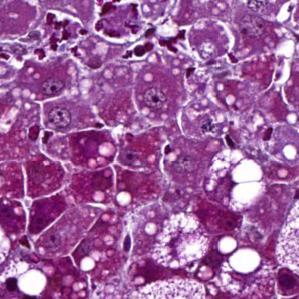ballooning: (204, 148, 267, 214), (152, 210, 213, 271)
